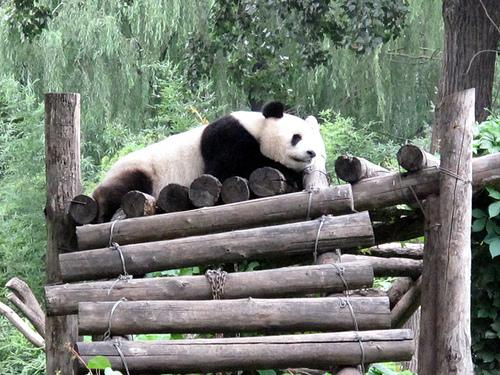panda: (91, 101, 325, 222)
